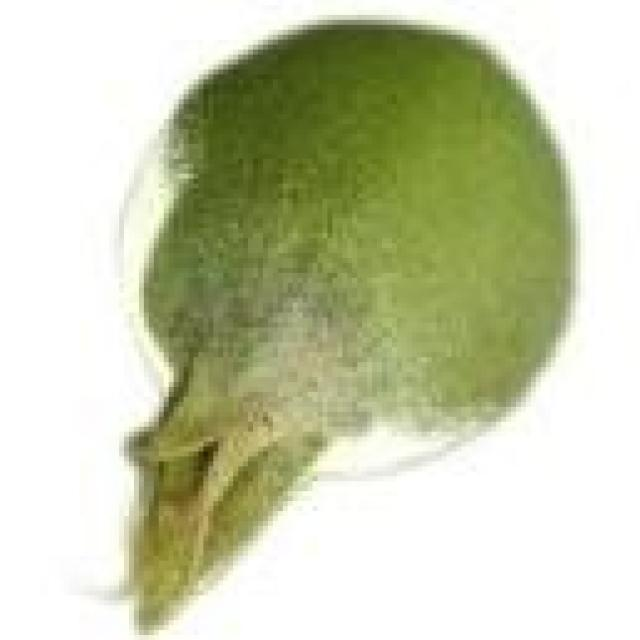Rotten Apple: (97, 15, 583, 620)
